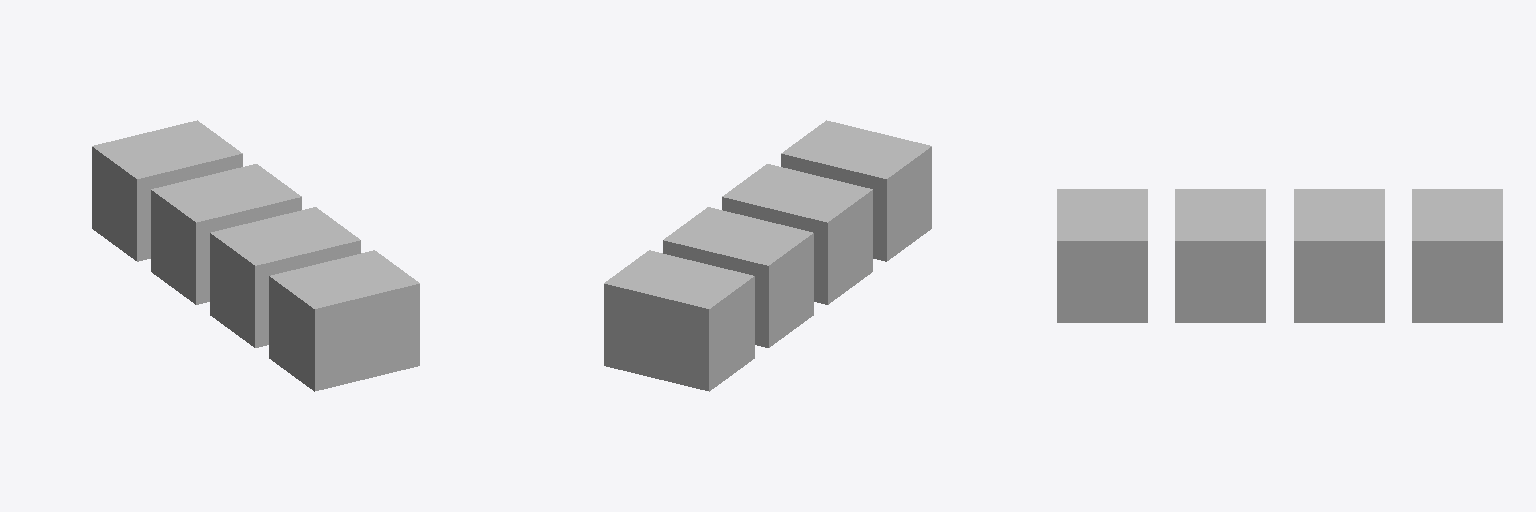
Rendered from buildingO2.obj.
3 renders of one model, left to right at view 1: azimuth 30°, elevation 25°; view 2: azimuth 150°, elevation 25°; view 3: azimuth 270°, elevation 25°, orthographic.
Visible parts, largest first — view 1: Cube.011_Cube.006; view 2: Cube.011_Cube.006; view 3: Cube.011_Cube.006.
Part boxes in pixels (x1,y1,x2,y2): Cube.011_Cube.006: (92, 120, 419, 391); Cube.011_Cube.006: (604, 120, 931, 391); Cube.011_Cube.006: (1057, 189, 1502, 322).
Size of the model in its own units: 1.07 by 0.795 by 3.9.